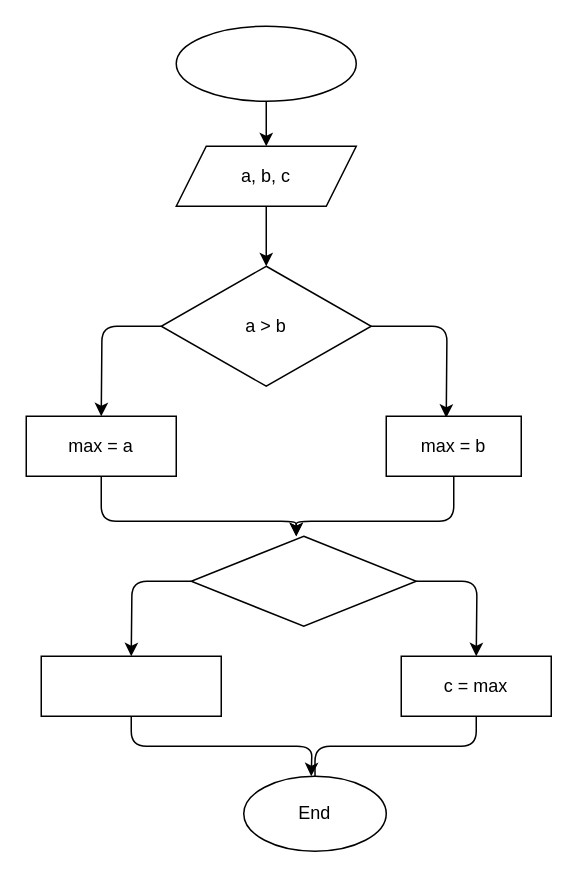
This 578x878 diagram has some shape labels left out. The centre of each missing label's shape, as x and y in pixels:
"max = max" belongs at (130,685).
"max > c" belongs at (303,580).
"Start" belongs at (265,63).
